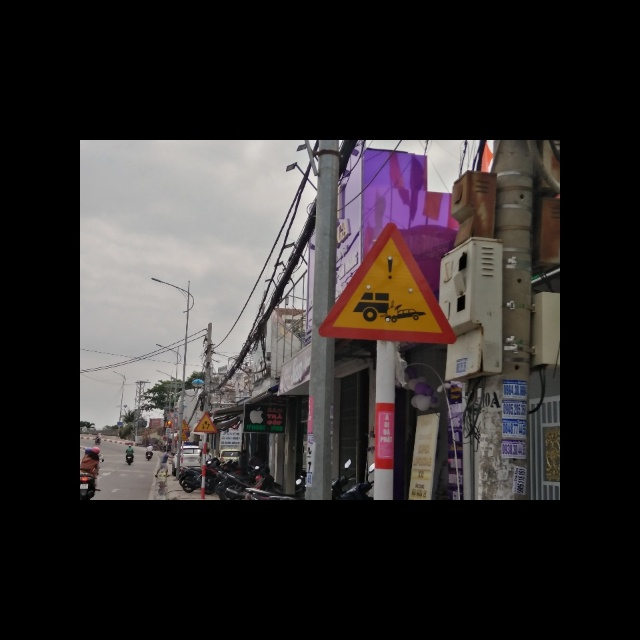Đoạn đường hay xảy ra tai nạn: (316, 223, 460, 345)
Đường đôi: (192, 411, 216, 433)
